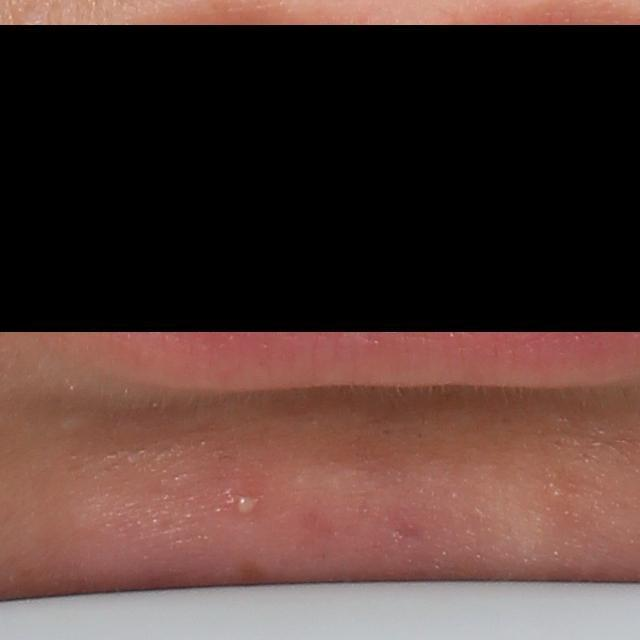hypertrophic_scar: (53, 413, 84, 434)
pustule: (233, 494, 264, 521)
